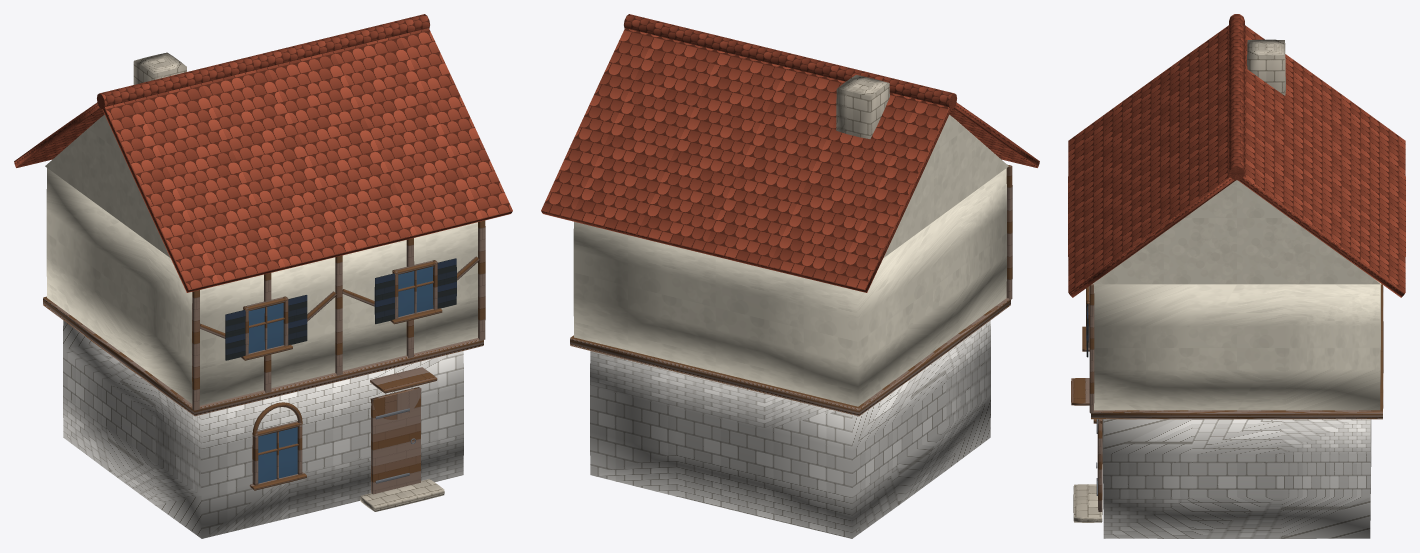
File: building_townhouse_red_roof.glb
The picture shows the model from 3 angles, left to right: view 1: azimuth 30°, elevation 25°; view 2: azimuth 150°, elevation 25°; view 3: azimuth 270°, elevation 25°; orthographic projection. The views are drawn at different scales.
Visible parts, largest first — view 1: building_townhouse, building_townhouse_stone_blocks; view 2: building_townhouse, building_townhouse_stone_blocks; view 3: building_townhouse, building_townhouse_stone_blocks.
Boxes of the visible parts, x1,y1,x2,y2 form: building_townhouse: (14,14,512,494); building_townhouse_stone_blocks: (63,52,463,538); building_townhouse: (541,14,1039,416); building_townhouse_stone_blocks: (590,75,990,538); building_townhouse: (1068,14,1405,511); building_townhouse_stone_blocks: (1073,39,1371,538).
Size of the model in its own units: 7.4 by 8.8 by 6.92.
7 materials, 5 textured.
